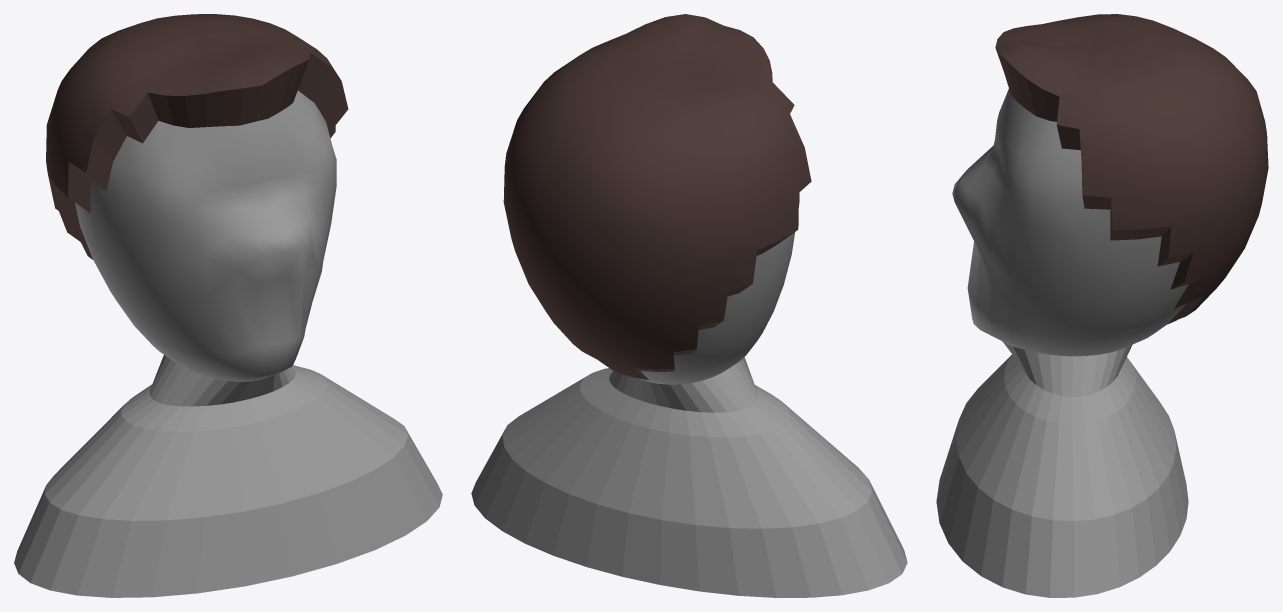
File: Bust.FBX
3 renders of one model, left to right at view 1: azimuth 30°, elevation 25°; view 2: azimuth 150°, elevation 25°; view 3: azimuth 270°, elevation 25°, orthographic. The views are drawn at different scales.
Parts seen in each view (by area): view 1: Sphere001; view 2: Sphere001; view 3: Sphere001.
Boxes of the visible parts, x1,y1,x2,y2 form: Sphere001: (14, 14, 442, 597); Sphere001: (471, 14, 907, 597); Sphere001: (936, 14, 1268, 597).
Bounding box in the file's own units: 18.77 × 21.15 × 13.69.
